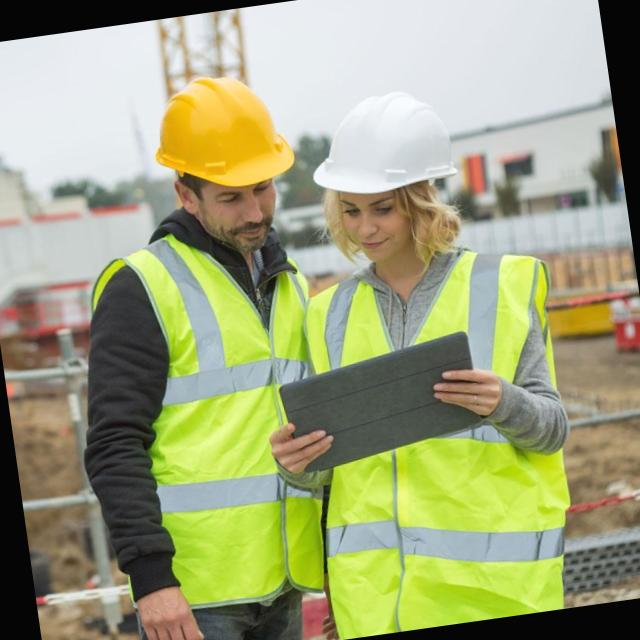helmet: (137, 68, 306, 202), (300, 90, 464, 208)
no-goggles: (334, 182, 436, 229), (183, 173, 291, 215)
vest: (294, 234, 592, 629), (122, 212, 354, 596)
